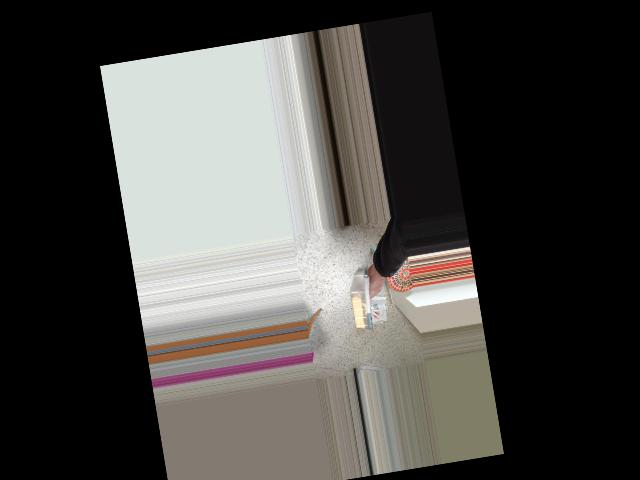cheese: (339, 267, 390, 334)
